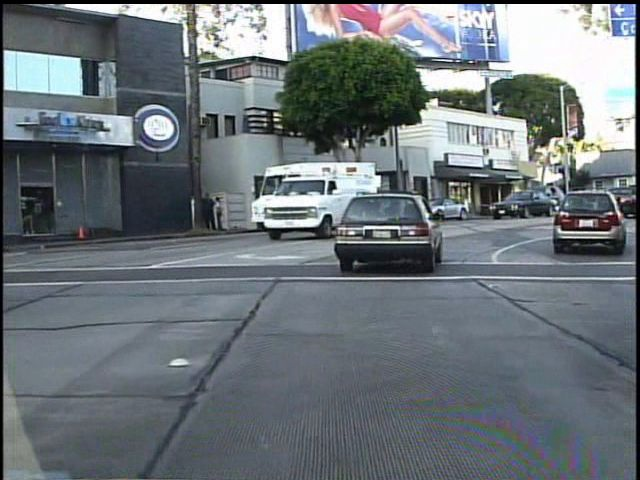person: (201, 191, 218, 234), (211, 195, 225, 232)
